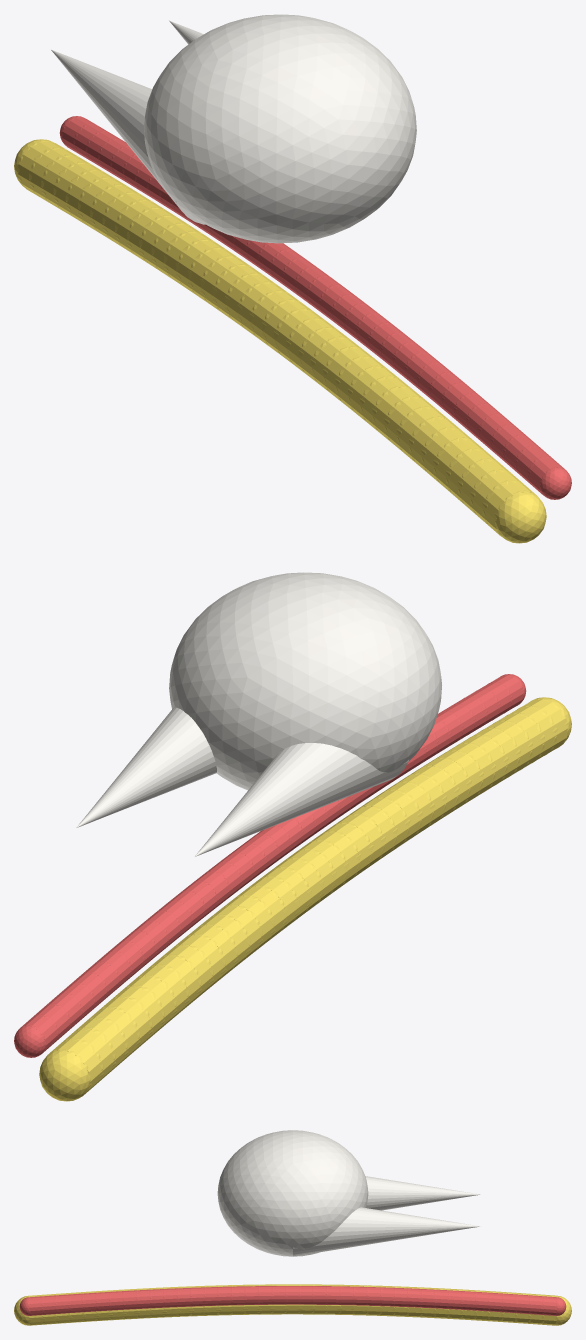
Rendered from placeholder.glb.
3 views of the same model, one above another, from view 1: azimuth 30°, elevation 25°; view 2: azimuth 150°, elevation 25°; view 3: azimuth 270°, elevation 25° (orthographic). The views are drawn at different scales.
Visible parts, largest first — view 1: Tooth, Nerve, Artery; view 2: Tooth, Nerve, Artery; view 3: Tooth, Artery, Nerve.
Boxes of the visible parts, x1=… form: Tooth: x1=51, y1=14, x2=416, y2=243; Nerve: x1=14, y1=139, x2=546, y2=543; Artery: x1=59, y1=116, x2=571, y2=499; Tooth: x1=76, y1=572, x2=441, y2=856; Nerve: x1=39, y1=697, x2=571, y2=1101; Artery: x1=14, y1=674, x2=526, y2=1057; Tooth: x1=217, y1=1130, x2=480, y2=1256; Artery: x1=19, y1=1286, x2=566, y2=1315; Nerve: x1=14, y1=1284, x2=571, y2=1325.
Size of the model in its own units: 0.04 by 0.0543 by 0.148.
